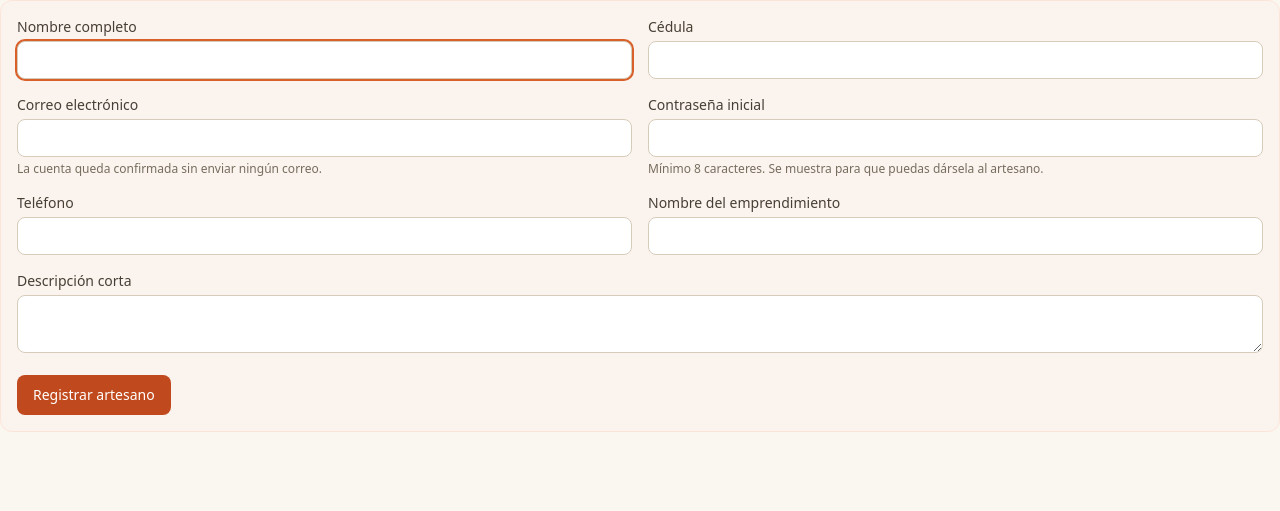
Test: RegistrarArtesanoAdmin › envía los datos con el token del administrador, avisa y limpia el formulario
The width and height of the screenshot is (1280, 511).
Type "Ana Gómez" into the field labelled "Nombre completo" at (324,60), box [17, 41, 632, 79]
Type "1010" into the field labelled "Cédula" at (956,60), box [648, 41, 1263, 79]
Type "ana@correo.com" into the field labelled "Correo electrónico" at (324,138), box [17, 119, 632, 157]
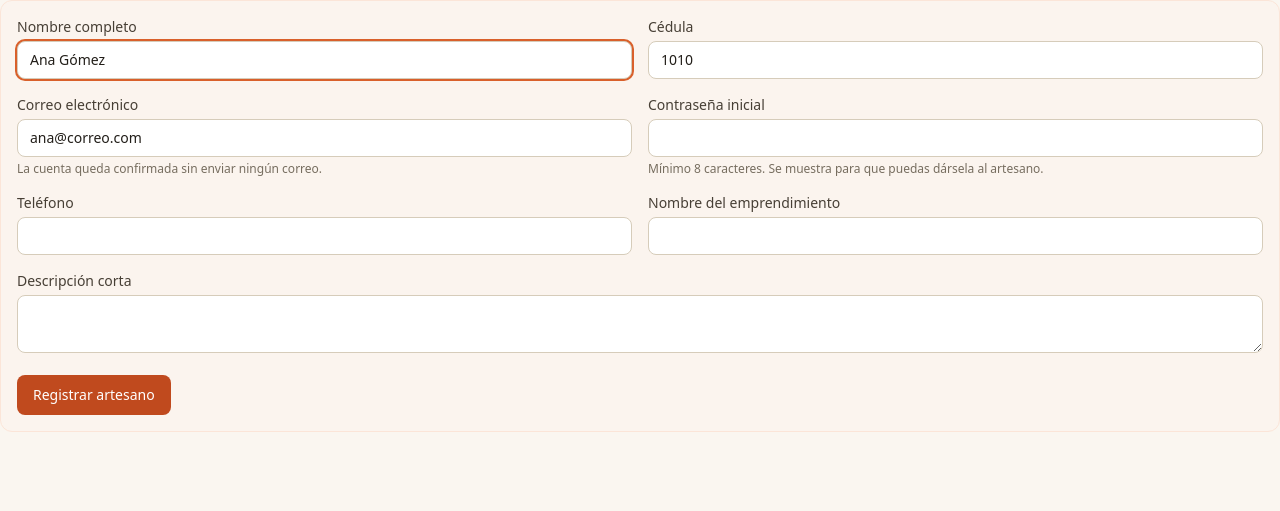
Type "Segura1234" into the field labelled "Contraseña inicial" at (956,138), box [648, 119, 1263, 157]
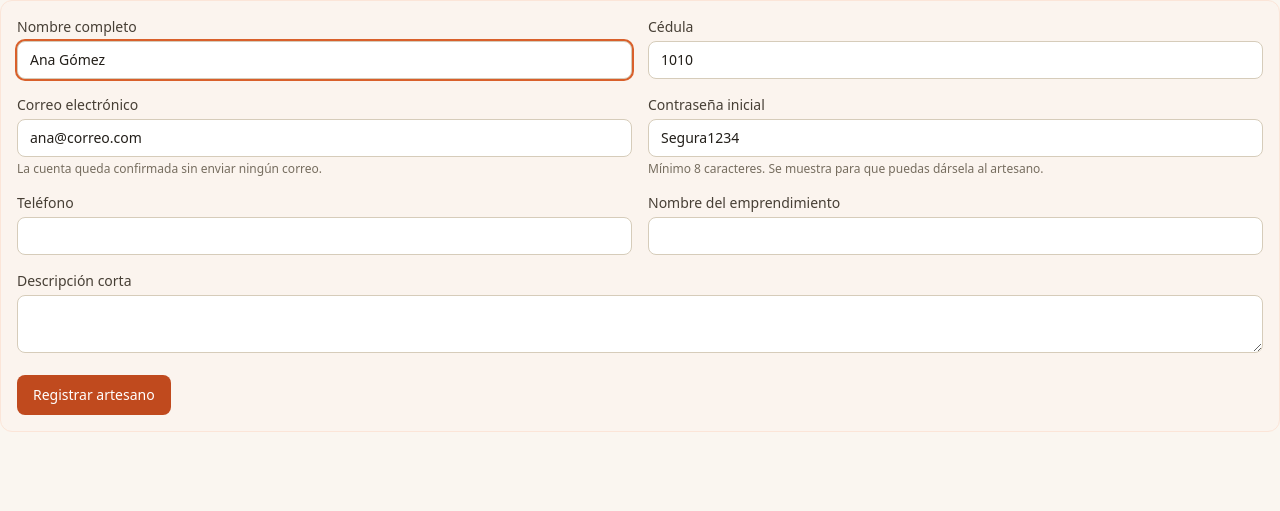
Type "300" into the field labelled "Teléfono" at (324,236), box [17, 217, 632, 255]
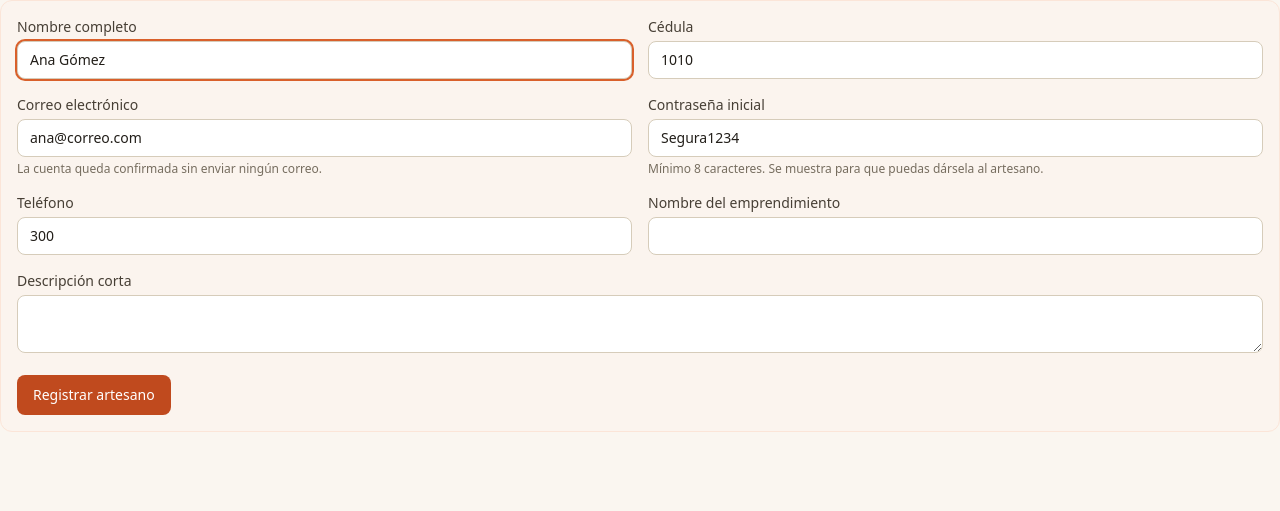
Type "Cerámicas Ana" into the field labelled "Nombre del emprendimiento" at (956,236), box [648, 217, 1263, 255]
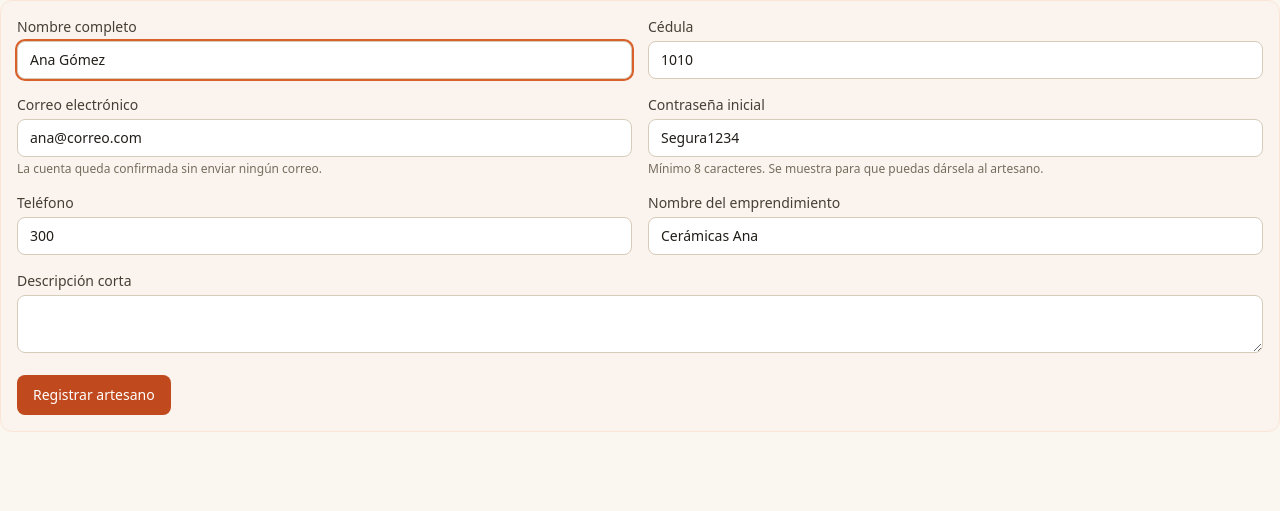
Type "Vasijas" into the text box labelled "Descripción corta" at (640,324), box [17, 295, 1263, 353]
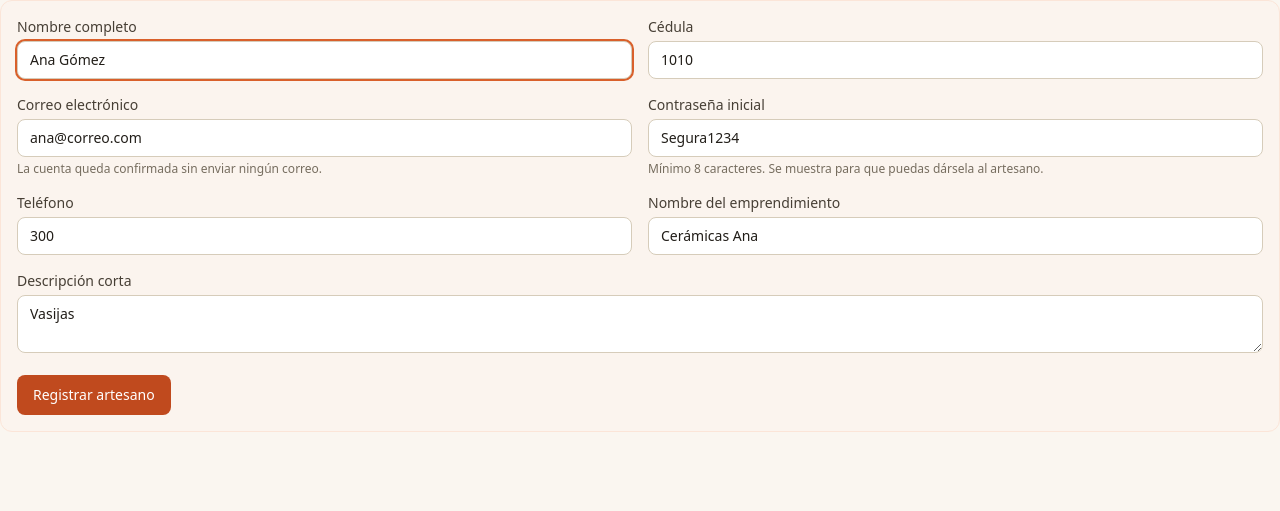
Click the button "Registrar artesano" at (94,395), box [17, 375, 171, 415]
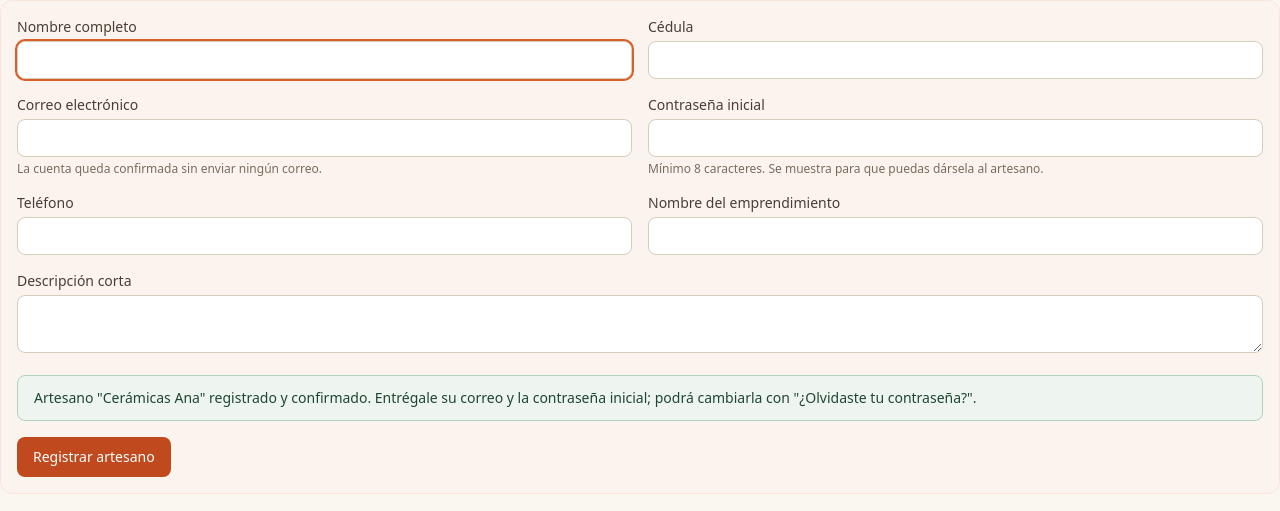
expect the text "Artesano \"Cerámicas Ana\" registrado y confirmado" is shown: met, box [34, 388, 977, 407]
expect the field labelled "Nombre completo" is empty: met, box [17, 41, 632, 79]
